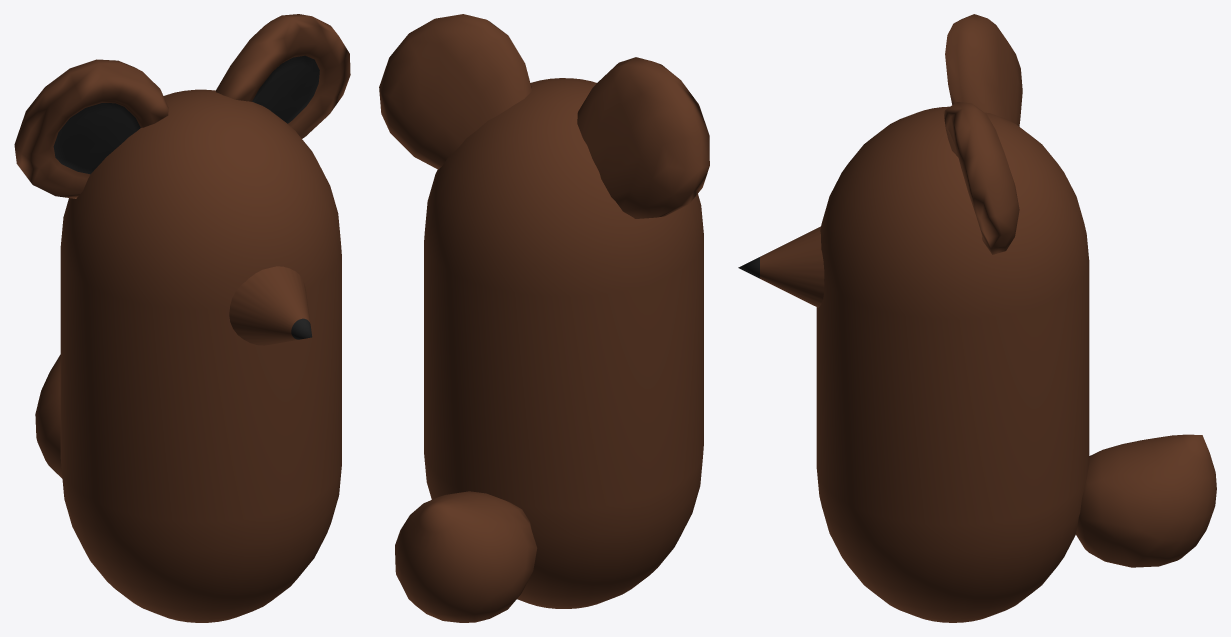
File: NPC_Bear.fbx
3 renders of one model, left to right at view 1: azimuth 30°, elevation 25°; view 2: azimuth 150°, elevation 25°; view 3: azimuth 270°, elevation 25°, orthographic. The views are drawn at different scales.
Visible parts, largest first — view 1: Bear; view 2: Bear; view 3: Bear.
Part boxes in pixels (box(x1,y1,x2,y2)): Bear: box(14, 14, 350, 622); Bear: box(379, 14, 709, 622); Bear: box(738, 14, 1216, 622).
Bounding box in the file's own units: 1.34 × 2.22 × 1.76.
